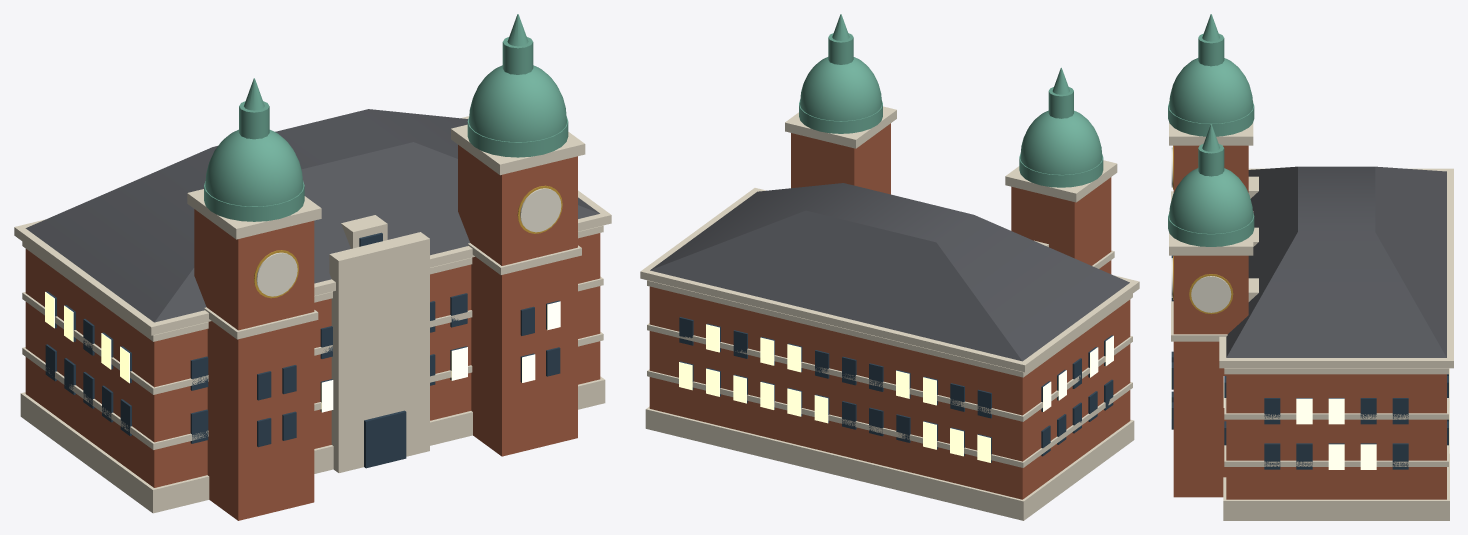
Rendered from hotelny.glb.
3 views of the same model, side by side, from view 1: azimuth 30°, elevation 25°; view 2: azimuth 150°, elevation 25°; view 3: azimuth 270°, elevation 25° (orthographic). The views are drawn at different scales.
Parts seen in each view (by area): view 1: dak, gebouw, toren0, toren1, risaliet, plint, koepel0, koepel1, kroonlijst, zijramen-1, ramen-1, ingang (+19 smaller); view 2: dak, gebouw, plint, kroonlijst, toren0, ramen1-licht, toren1, ramen1, koepel0, koepel1, band16.4, band6.2 (+9 smaller); view 3: dak, gebouw, toren1, plint, koepel0, koepel1, kroonlijst, zijramen1, zijramen1-licht, toren0, band16.4, band6.2 (+9 smaller).
Boxes of the visible parts, x1,y1,x2,y2 form: dak: (25, 109, 599, 322); gebouw: (25, 233, 600, 487); toren0: (194, 209, 314, 520); toren1: (458, 145, 577, 456); risaliet: (329, 232, 429, 472); plint: (20, 376, 605, 513); koepel0: (205, 129, 303, 206); koepel1: (469, 65, 566, 141); kroonlijst: (14, 116, 611, 335); zijramen-1: (45, 291, 131, 435); ramen-1: (190, 293, 467, 443); ingang: (364, 410, 406, 468); dak: (650, 183, 1129, 361); gebouw: (649, 286, 1130, 499); plint: (645, 406, 1134, 520); kroonlijst: (640, 188, 1139, 372); toren0: (1011, 177, 1111, 273); ramen1-licht: (679, 324, 990, 462); toren1: (791, 123, 890, 194); ramen1: (679, 317, 991, 462); koepel0: (1020, 110, 1102, 174); koepel1: (800, 57, 881, 120); band16.4: (647, 280, 1132, 377); band6.2: (647, 369, 1132, 467); dak: (1226, 166, 1446, 357); gebouw: (1226, 374, 1446, 499); toren1: (1173, 255, 1248, 497); plint: (1223, 368, 1449, 520); koepel0: (1169, 58, 1253, 123); koepel1: (1169, 168, 1253, 233); kroonlijst: (1219, 168, 1453, 368); zijramen1: (1264, 398, 1408, 469); zijramen1-licht: (1296, 398, 1376, 469); toren0: (1173, 145, 1248, 192); band16.4: (1224, 368, 1448, 374); band6.2: (1224, 445, 1448, 466).
Bounding box in the file's own units: 45.4 × 39.3 × 28.5.
